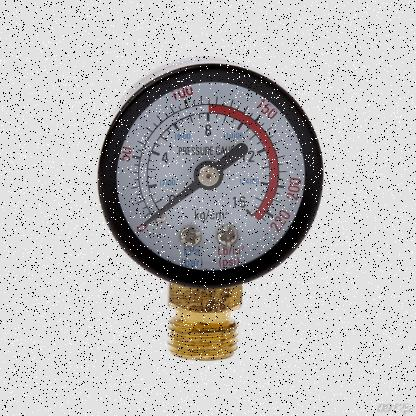needle: (142, 179, 201, 228)
